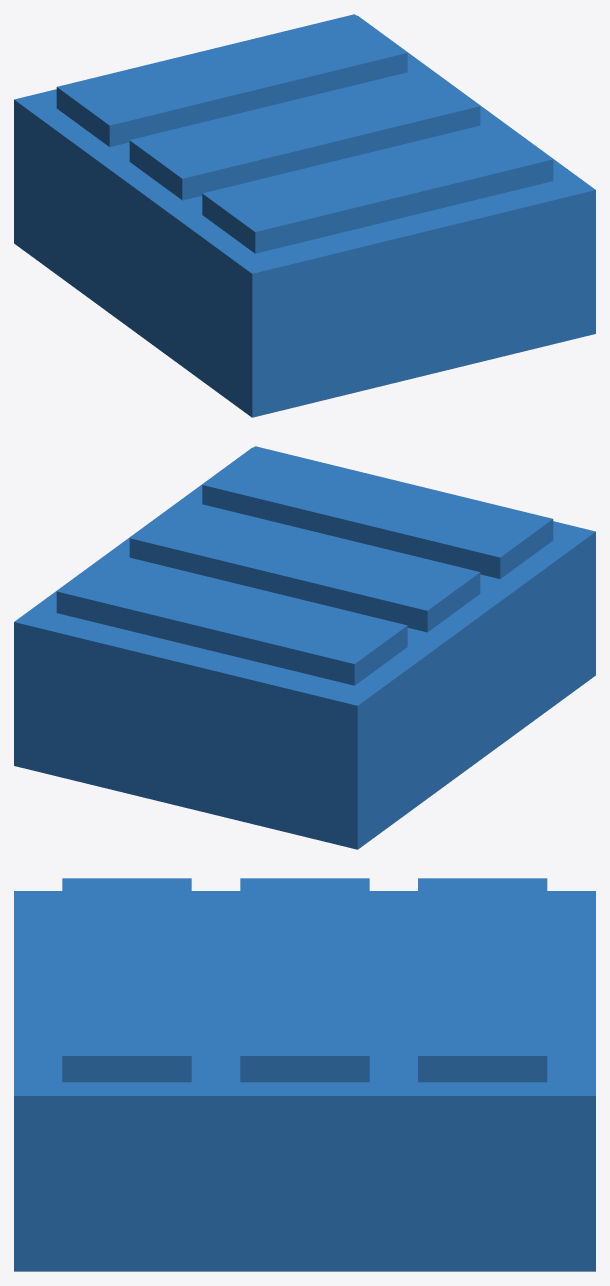
The model's file is 13_compact_energy_store.glb.
The picture shows the model from 3 angles, top to bottom: view 1: azimuth 30°, elevation 25°; view 2: azimuth 150°, elevation 25°; view 3: azimuth 270°, elevation 25°; orthographic projection. The views are drawn at different scales.
Visible parts, largest first — view 1: Compact energy store; view 2: Compact energy store; view 3: Compact energy store.
Boxes of the visible parts, x1=… form: Compact energy store: x1=14, y1=14, x2=595, y2=417; Compact energy store: x1=14, y1=446, x2=595, y2=849; Compact energy store: x1=14, y1=878, x2=595, y2=1271.
Bounding box in the file's own units: 0.015 × 0.0069 × 0.018.
